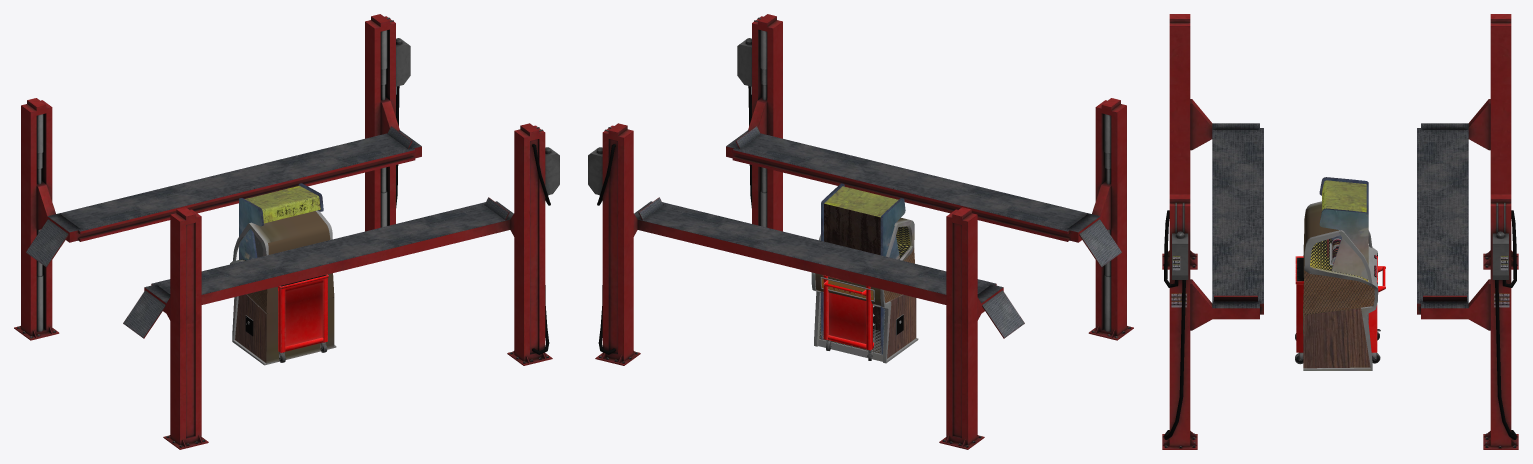
Rendered from interior.glb.
3 views of the same model, side by side, from view 1: azimuth 30°, elevation 25°; view 2: azimuth 150°, elevation 25°; view 3: azimuth 270°, elevation 25° (orthographic). The views are drawn at different scales.
Visible parts, largest first — view 1: carlift, jukebox, toolcart, arcade; view 2: carlift, arcade, jukebox, toolcart; view 3: carlift, jukebox, arcade, toolcart.
Part boxes in pixels (bbox=[...]): carlift: bbox=[14, 14, 559, 449]; jukebox: bbox=[230, 210, 336, 365]; toolcart: bbox=[277, 274, 328, 362]; arcade: bbox=[239, 183, 323, 260]; carlift: bbox=[588, 14, 1133, 449]; arcade: bbox=[821, 183, 905, 354]; jukebox: bbox=[811, 218, 918, 363]; toolcart: bbox=[823, 275, 874, 360]; carlift: bbox=[1162, 14, 1518, 449]; jukebox: bbox=[1303, 201, 1378, 370]; arcade: bbox=[1319, 177, 1368, 321]; toolcart: bbox=[1295, 256, 1385, 364].
Bounding box in the file's own units: 5.23 × 2.88 × 3.78.
6 materials, 4 textured.
